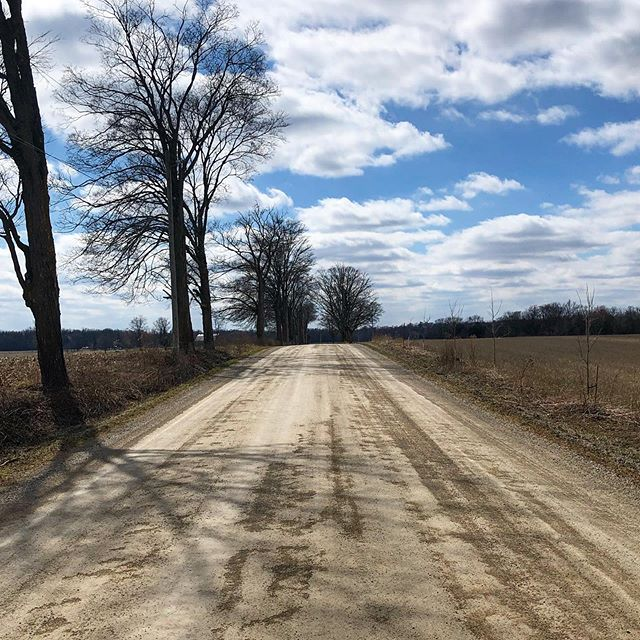road: (3, 340, 640, 637)
sky: (1, 1, 624, 301)
tree: (80, 2, 270, 376), (217, 195, 310, 356), (298, 270, 380, 354)
